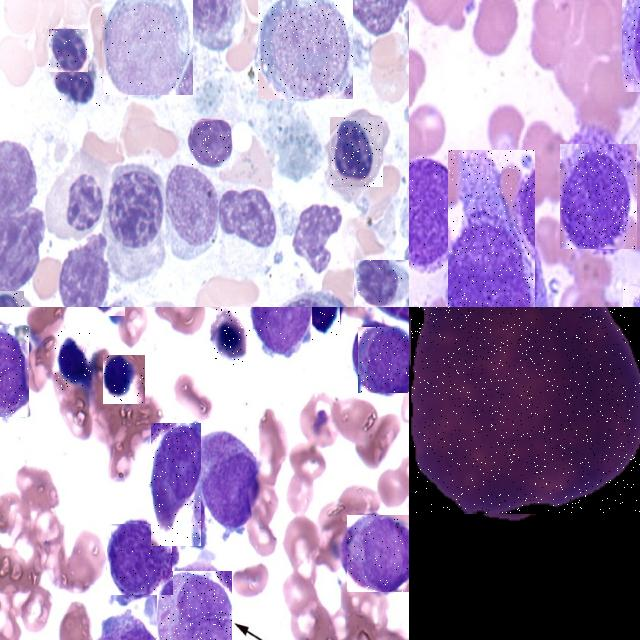ALL Negative Cells: (258, 0, 352, 99), (100, 0, 192, 96)
ALL Positive Cell: (411, 307, 640, 513), (448, 149, 534, 307), (560, 144, 637, 249), (409, 155, 467, 268), (151, 423, 201, 546), (155, 571, 231, 640), (346, 514, 409, 592), (107, 524, 172, 595), (330, 117, 383, 187), (358, 326, 409, 393), (254, 307, 316, 357), (0, 325, 29, 416), (354, 260, 409, 307), (54, 330, 92, 391), (213, 307, 249, 367), (103, 355, 145, 404), (56, 64, 100, 106), (192, 120, 231, 165), (49, 29, 88, 72), (311, 307, 340, 337), (0, 290, 24, 307)
